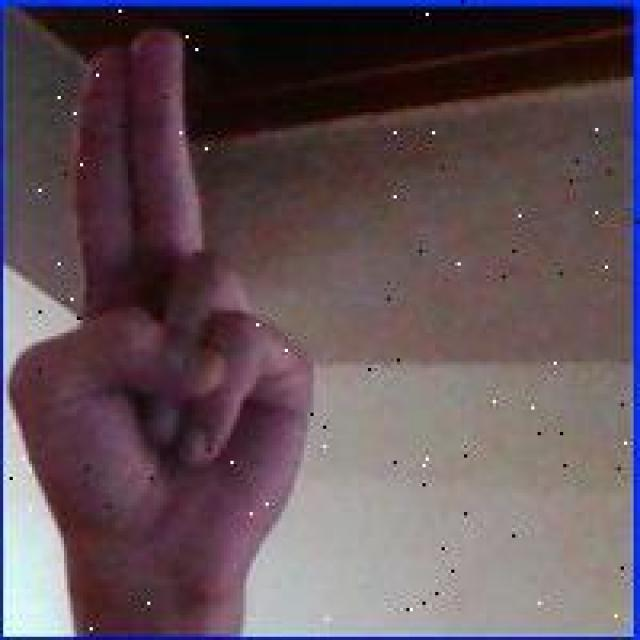U: (6, 21, 320, 590)
